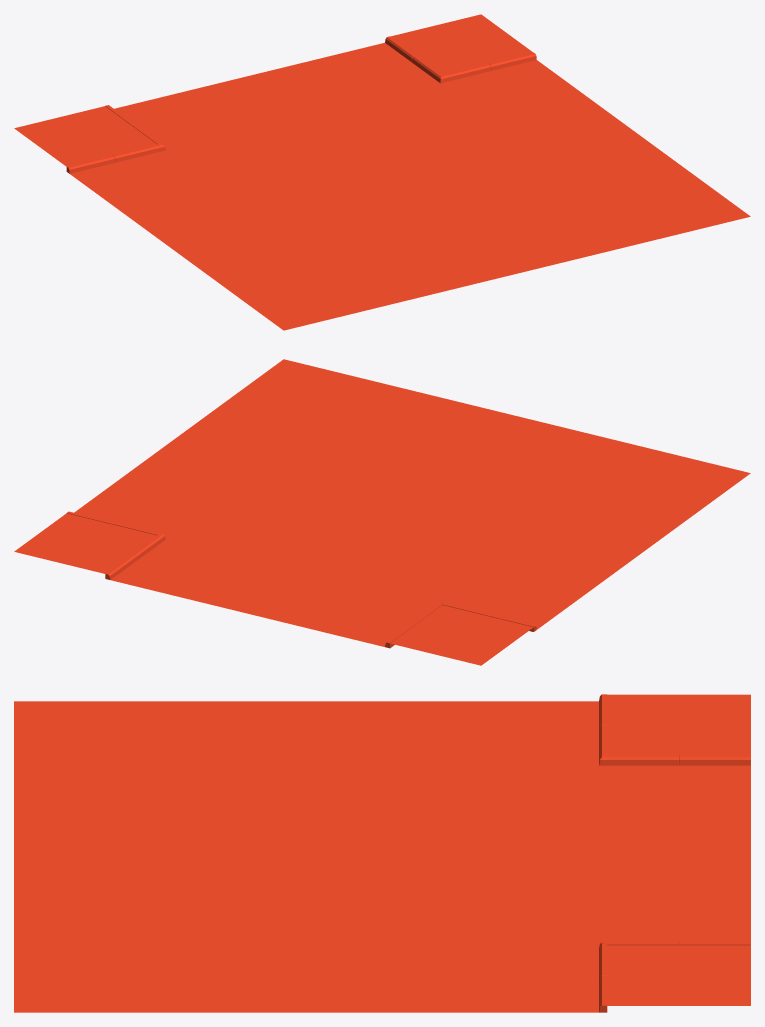
The model's file is SM_Road_Parking_Entrance_10x10_City.fbx.
3 renders of one model, top to bottom at view 1: azimuth 30°, elevation 25°; view 2: azimuth 150°, elevation 25°; view 3: azimuth 270°, elevation 25°, orthographic. The views are drawn at different scales.
Visible parts, largest first — view 1: SM_Road_Parking_Entrance_10x10_City; view 2: SM_Road_Parking_Entrance_10x10_City; view 3: SM_Road_Parking_Entrance_10x10_City.
Part boxes in pixels (x1=…): SM_Road_Parking_Entrance_10x10_City: x1=14, y1=14, x2=750, y2=330; SM_Road_Parking_Entrance_10x10_City: x1=14, y1=359, x2=750, y2=665; SM_Road_Parking_Entrance_10x10_City: x1=14, y1=694, x2=750, y2=1012.
Bounding box in the file's own units: 10 × 0.1084 × 10.
